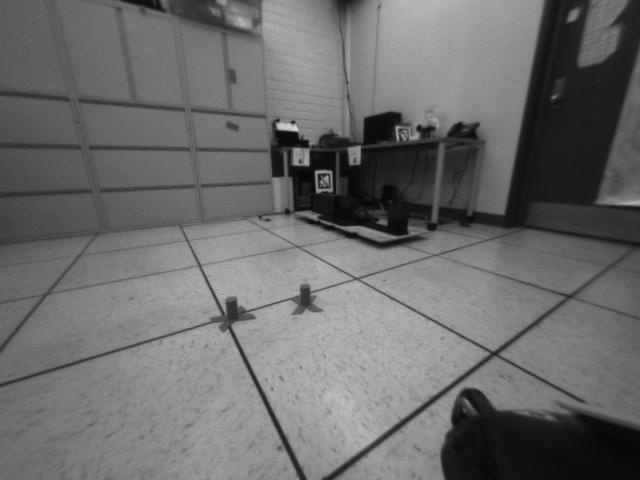X: (207, 296, 258, 332), (289, 281, 324, 317)
